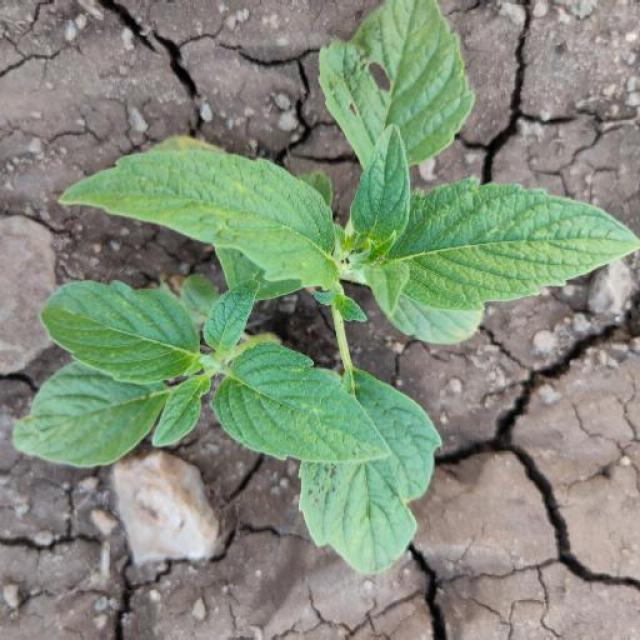crop: (25, 14, 636, 584)
